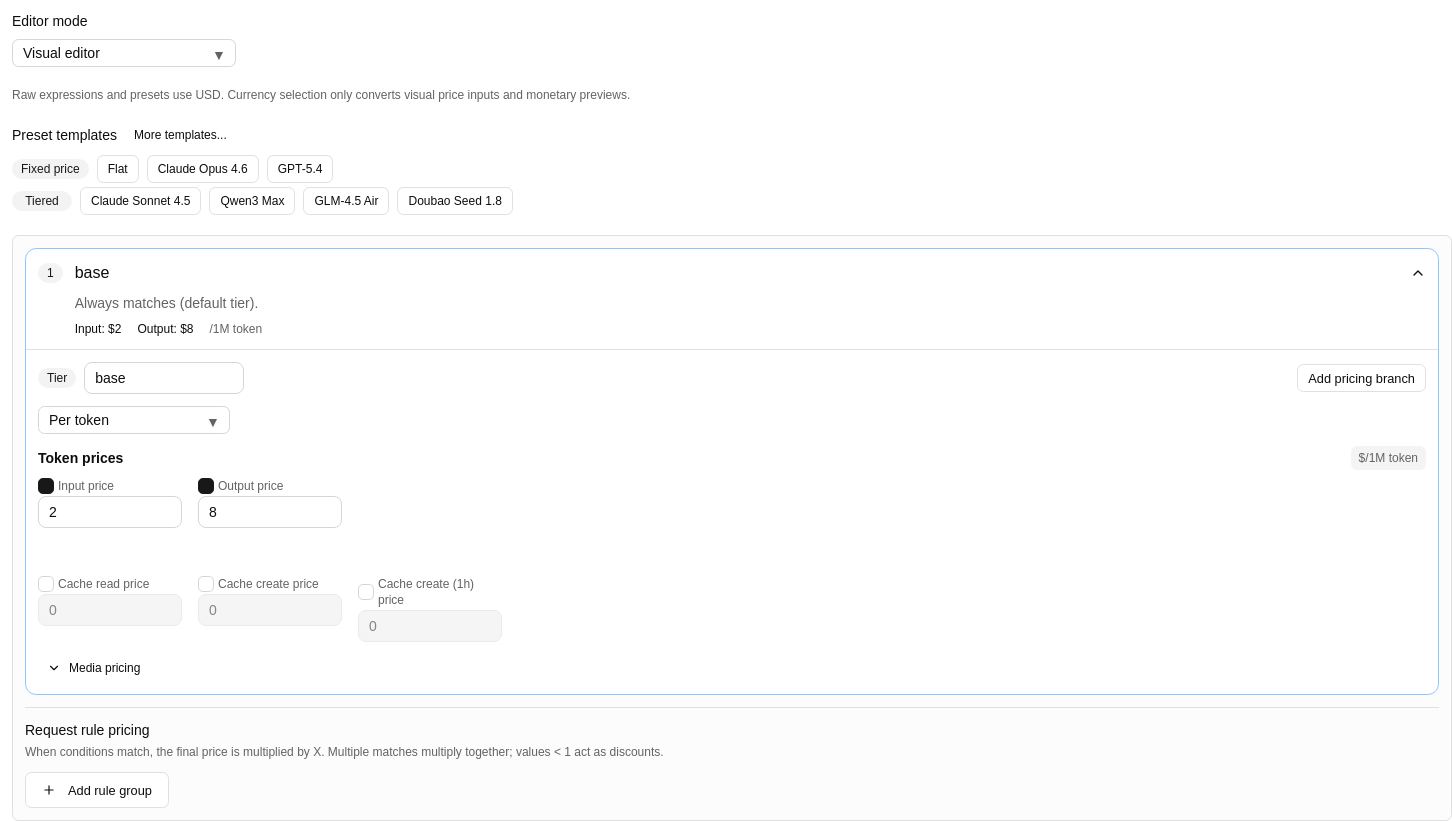
Test: keeps the condition tree as the default after switching models and applying presets
This screenshot has width=1452, height=822.
expect the button "Add pricing branch" is shown: met, box [1297,364,1426,392]
expect the field labelled "Input price" holds "2": met, box [38,496,182,528]
What coordinates should you click on to do the following:
click the button "Flat"
I would click on:
 (118, 169)
Its box is [97,155,139,183].
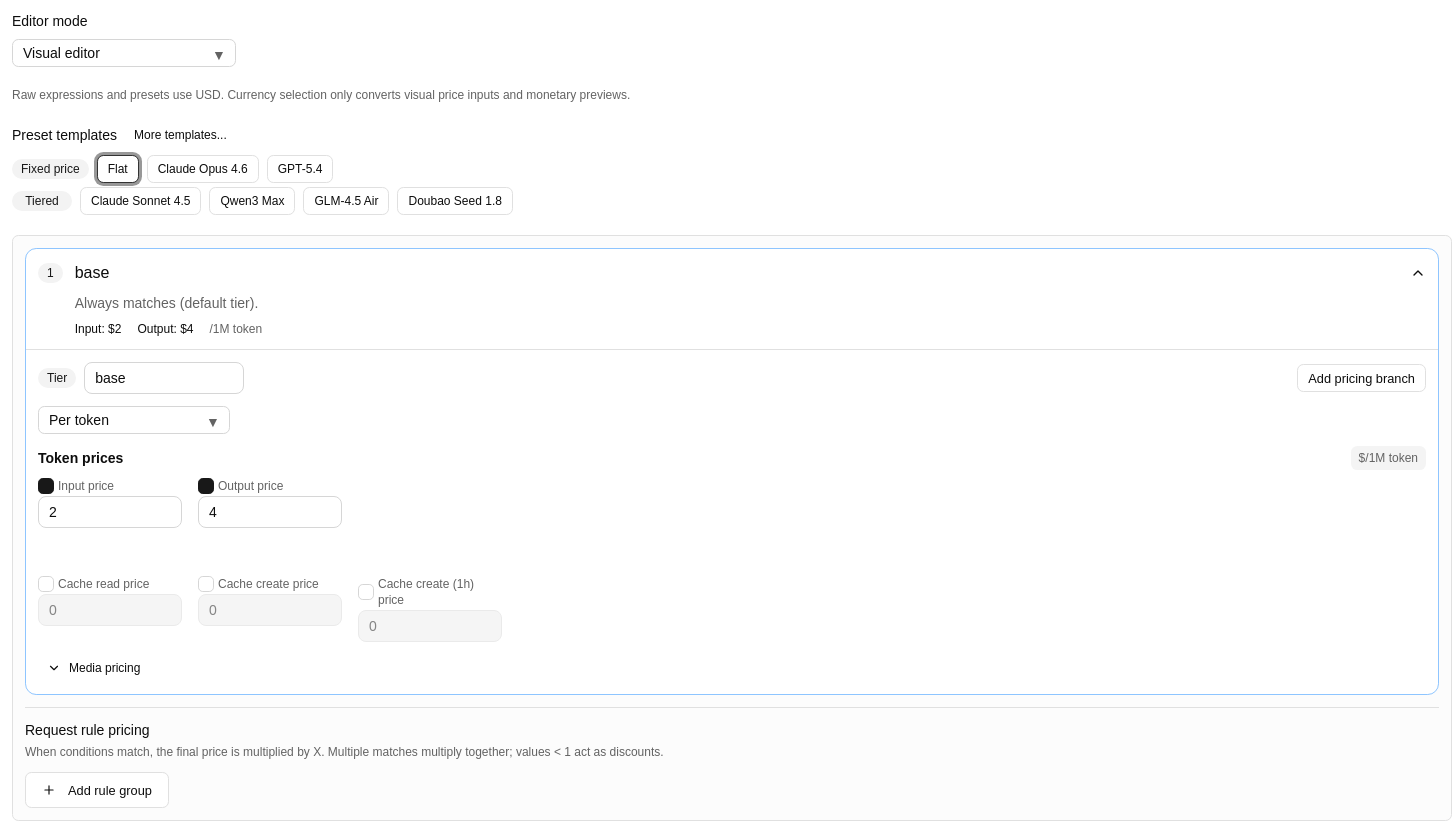
expect the button "Add pricing branch" is shown: met, box [1297,364,1426,392]
expect the field labelled "Output price" holds "4": met, box [198,496,342,528]
